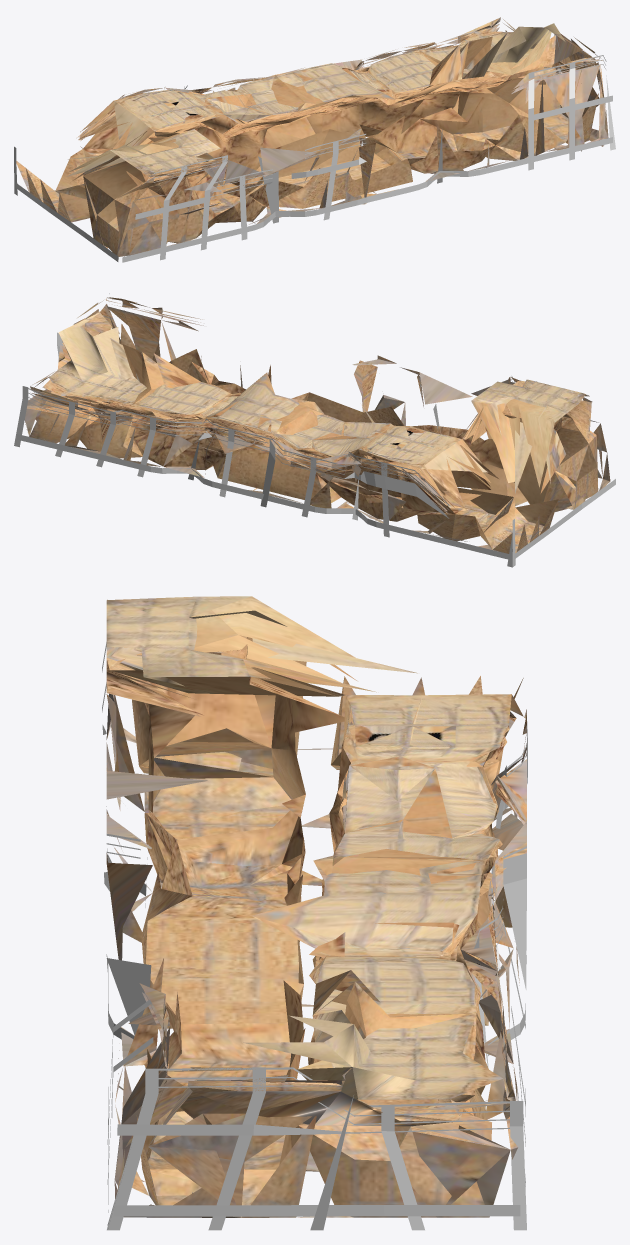
The model's file is hesco_wreck.glb.
The picture shows the model from 3 angles, top to bottom: view 1: azimuth 30°, elevation 25°; view 2: azimuth 150°, elevation 25°; view 3: azimuth 270°, elevation 25°; orthographic projection. The views are drawn at different scales.
Parts seen in each view (by area): view 1: wall.001, roof.001, metal.001; view 2: wall.001, roof.001, metal.001; view 3: wall.001, roof.001, metal.001.
Part boxes in pixels (x1,y1,x2,y2): wall.001: (16, 17, 608, 256); roof.001: (66, 23, 599, 184); metal.001: (14, 34, 615, 262); wall.001: (24, 297, 610, 553); roof.001: (49, 300, 585, 502); metal.001: (14, 293, 615, 567); wall.001: (106, 596, 526, 1217); roof.001: (106, 596, 526, 1115); metal.001: (102, 642, 527, 1230).
Size of the model in its own units: 3.04 by 0.5191 by 1.13.
Materials: 1 (1 with a texture image).
